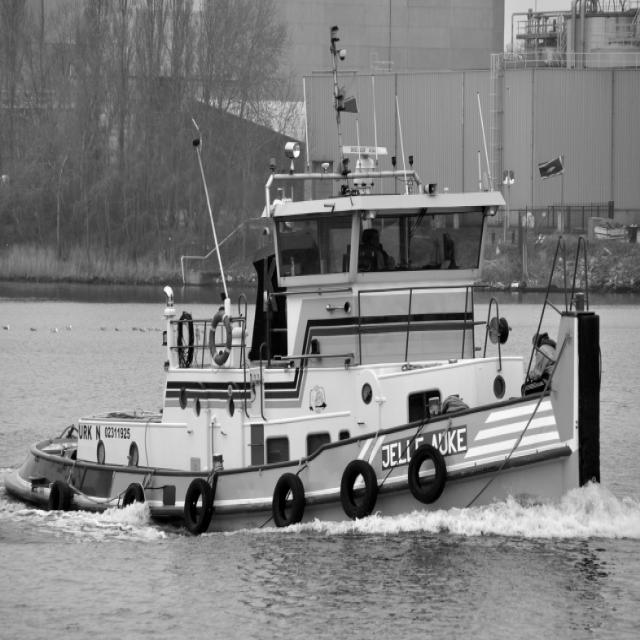tugboat: (3, 138, 609, 560)
